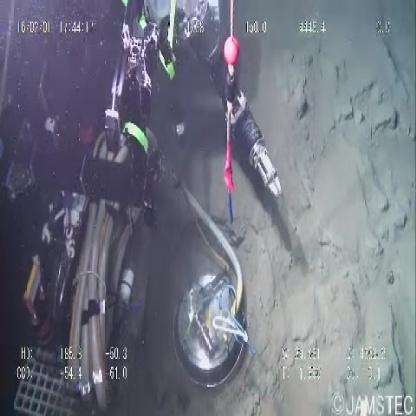Rov: (1, 1, 286, 410)
